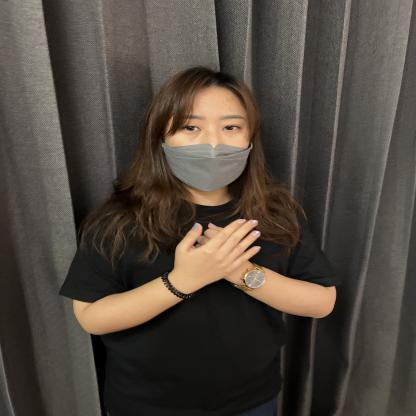Grieve: (116, 199, 389, 350)
